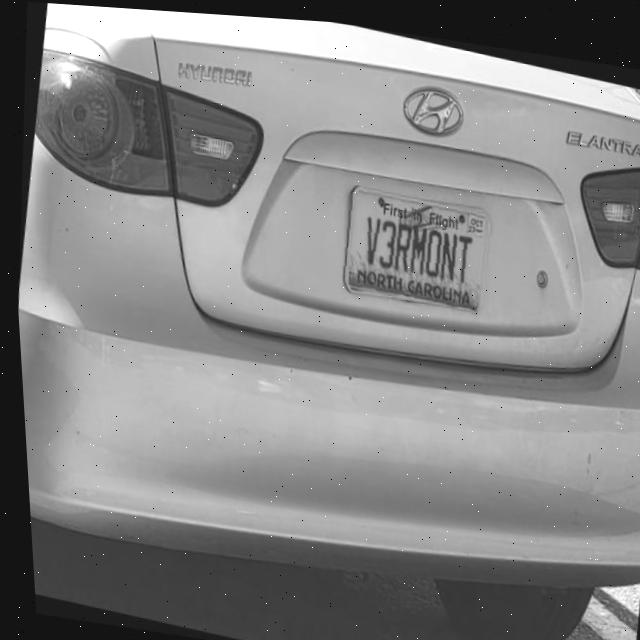LicensePlate: (339, 180, 489, 308)
